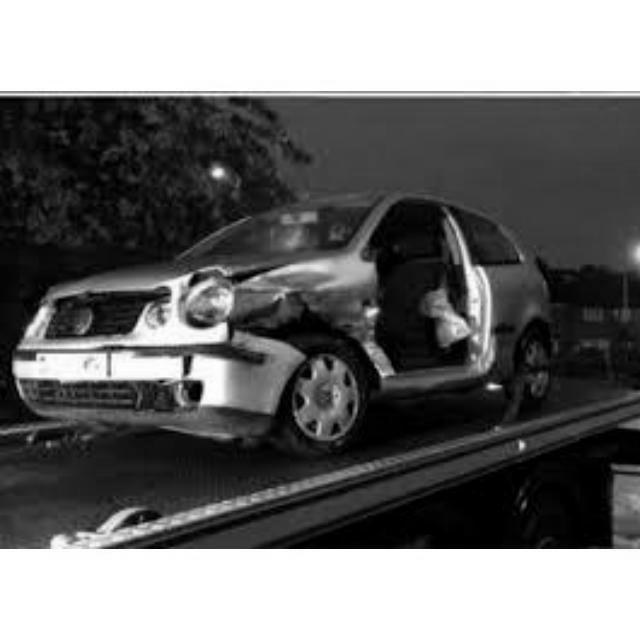Headlight-damage: (141, 269, 247, 334)
bonnet-dent: (73, 253, 266, 295)
doorouter-dent: (379, 212, 459, 382)
fender-dent: (249, 244, 372, 309)
front-bumper-dent: (153, 326, 338, 417)
